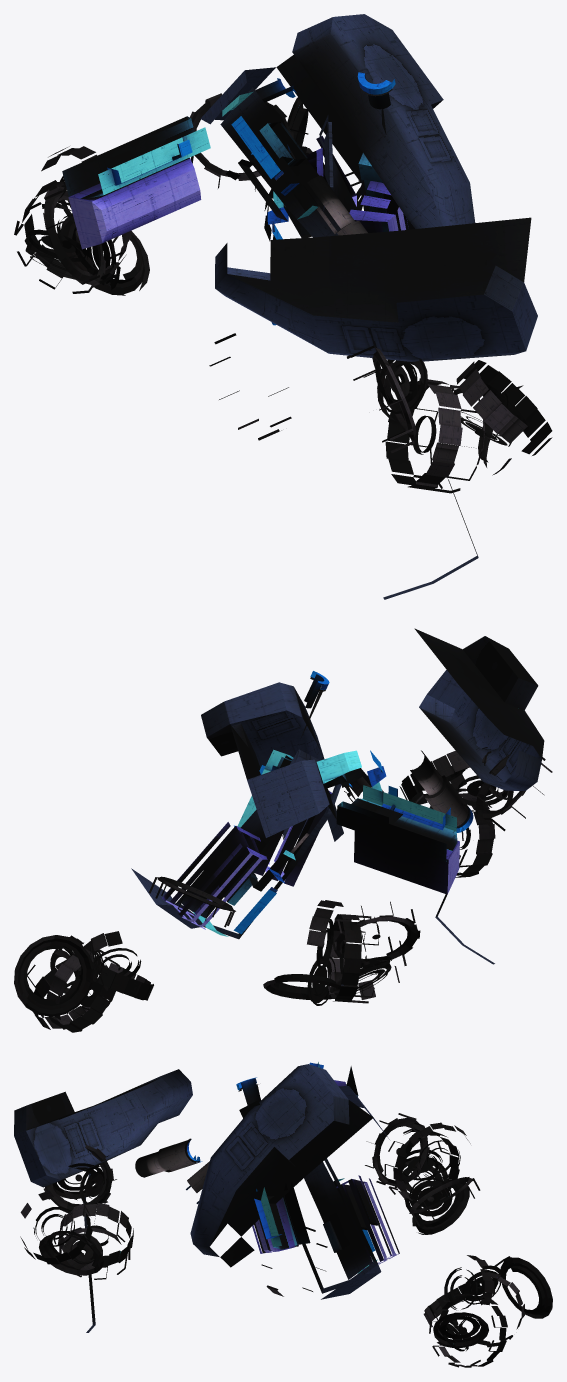
File: PlayerA_Die18.obj
3 views of the same model, one above another, from view 1: azimuth 30°, elevation 25°; view 2: azimuth 150°, elevation 25°; view 3: azimuth 270°, elevation 25° (orthographic). The views are drawn at different scales.
Visible parts, largest first — view 1: Object001; view 2: Object001; view 3: Object001.
Part boxes in pixels (x1,y1,x2,y2): Object001: (14,14,552,599); Object001: (14,628,552,1032); Object001: (14,1062,552,1367).
Size of the model in its own units: 180 by 178 by 293.
Materials: 1 (1 with a texture image).
